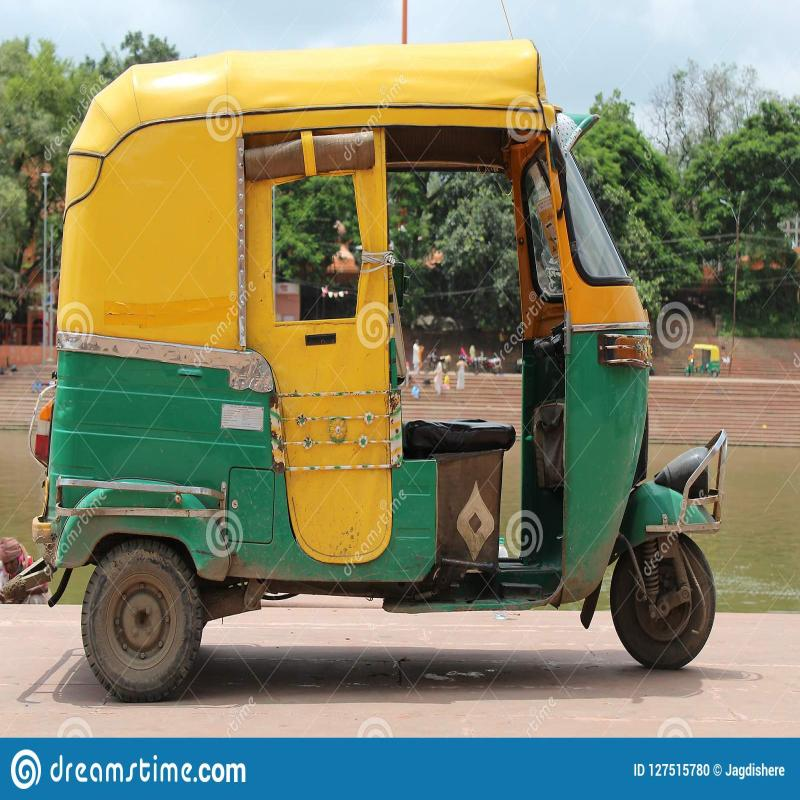auto: (59, 52, 708, 670)
